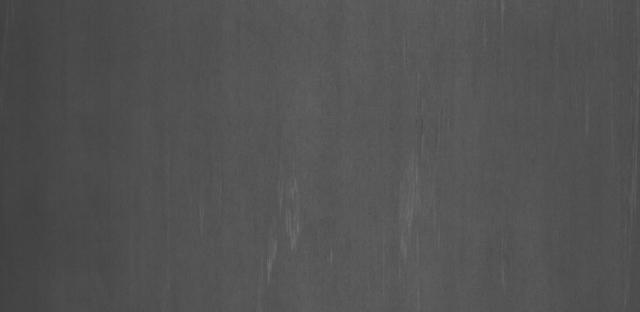silk_spot: (239, 148, 447, 271)
